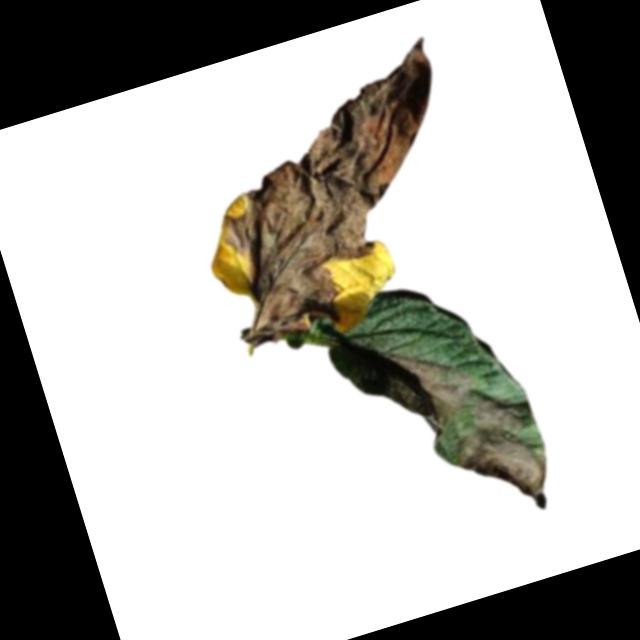Late_blight: (176, 34, 498, 357), (441, 387, 562, 528), (389, 330, 481, 442)
